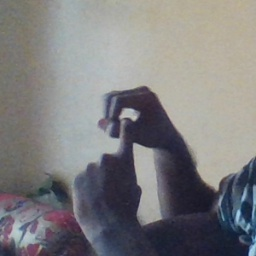Q: (70, 81, 174, 207)
